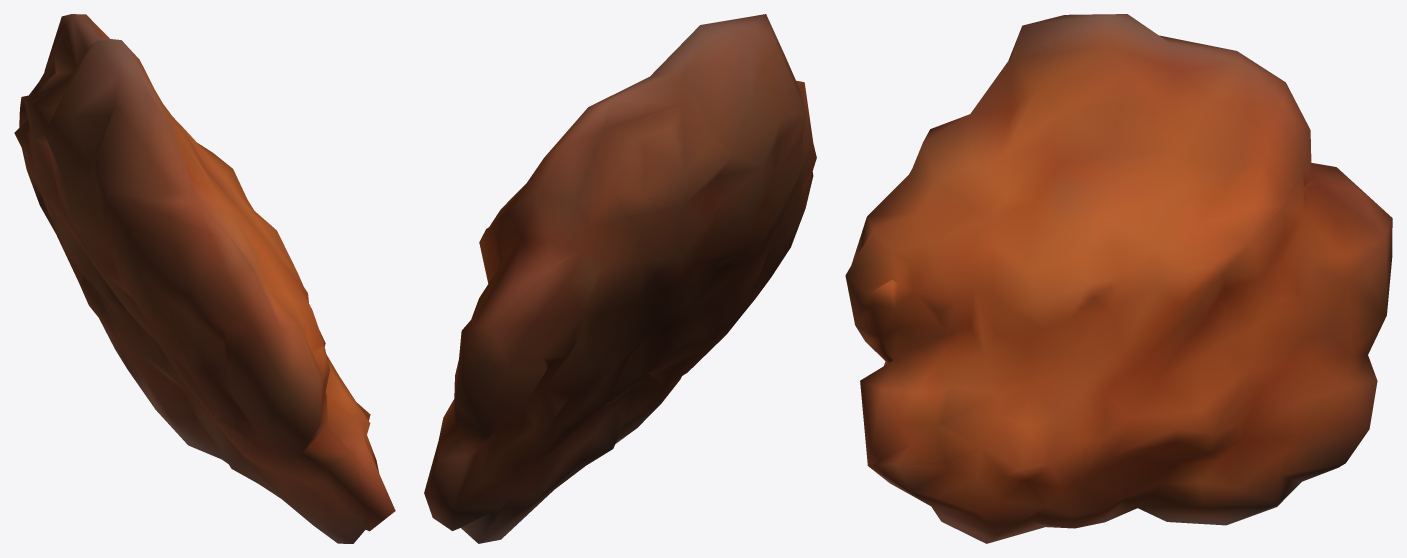
File: clay.glb
3 views of the same model, side by side, from view 1: azimuth 30°, elevation 25°; view 2: azimuth 150°, elevation 25°; view 3: azimuth 270°, elevation 25° (orthographic). The views are drawn at different scales.
Visible parts, largest first — view 1: model; view 2: model; view 3: model.
Part boxes in pixels (x1,y1,x2,y2): model: (14,14,395,543); model: (424,14,816,543); model: (845,14,1392,543).
Size of the model in its own units: 0.2052 by 0.3697 by 0.3989.
Materials: 1 (1 with a texture image).
